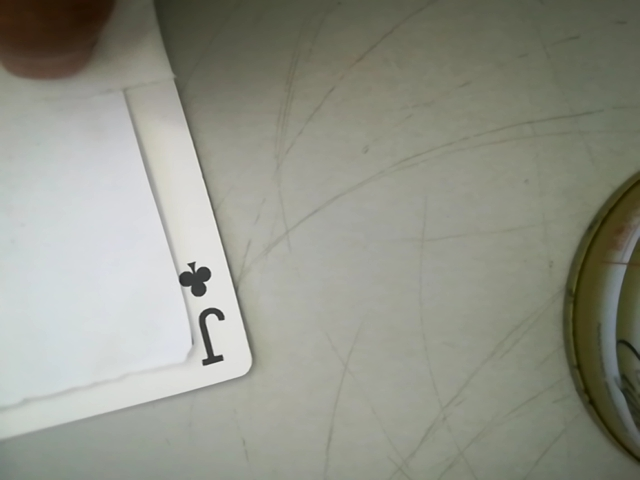mh j: (166, 244, 243, 377)
